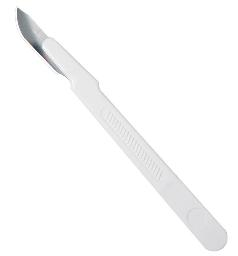scalpel: (14, 6, 228, 252)
